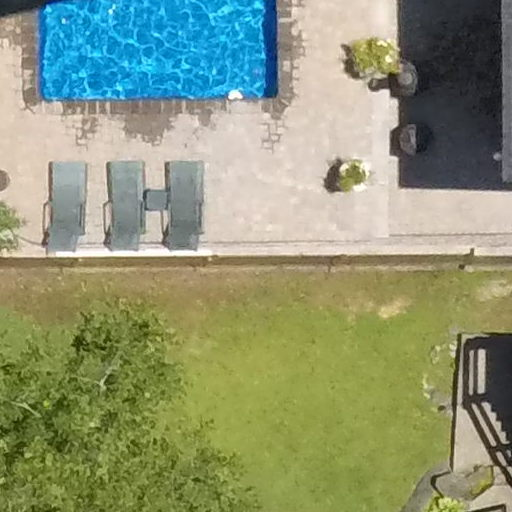flower pot: (337, 35, 398, 81), (322, 148, 374, 197)
pool: (28, 3, 304, 122)
